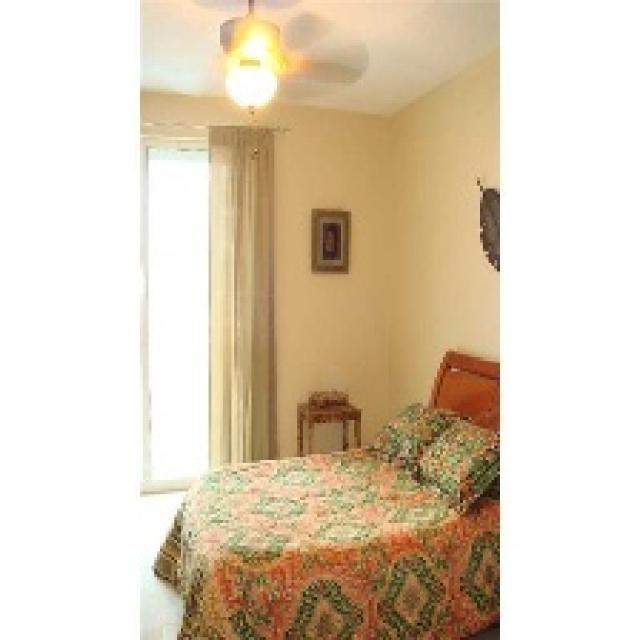Bed: (151, 349, 500, 637)
